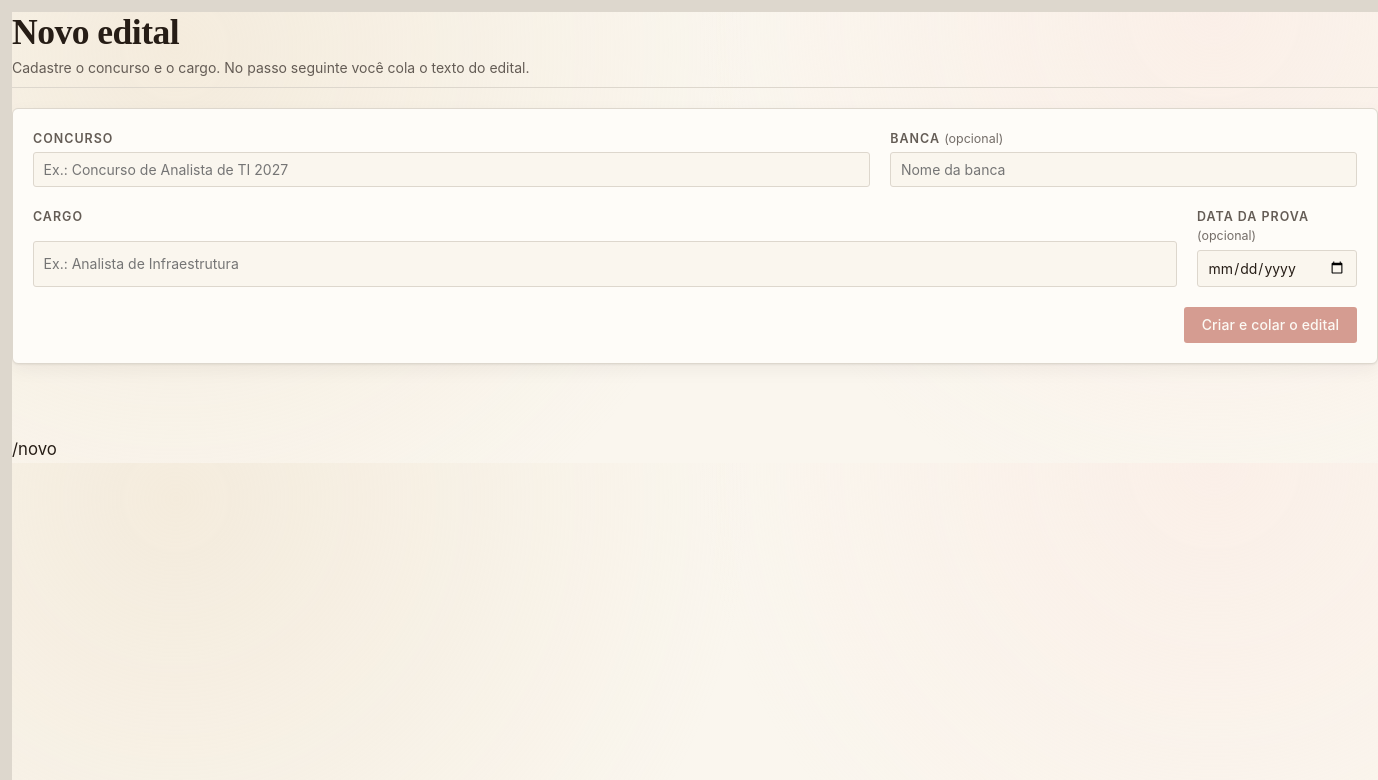
Test: PaginaNovoEdital › so habilita o envio com concurso e cargo preenchidos
The image size is (1378, 780).
Check: the button "Criar e colar o edital" is disabled, box [1184,307,1357,343]
Step 1. Type "Tribunal de Justiça" into the field labelled "Concurso" → (452, 170), box [33,152,870,187]
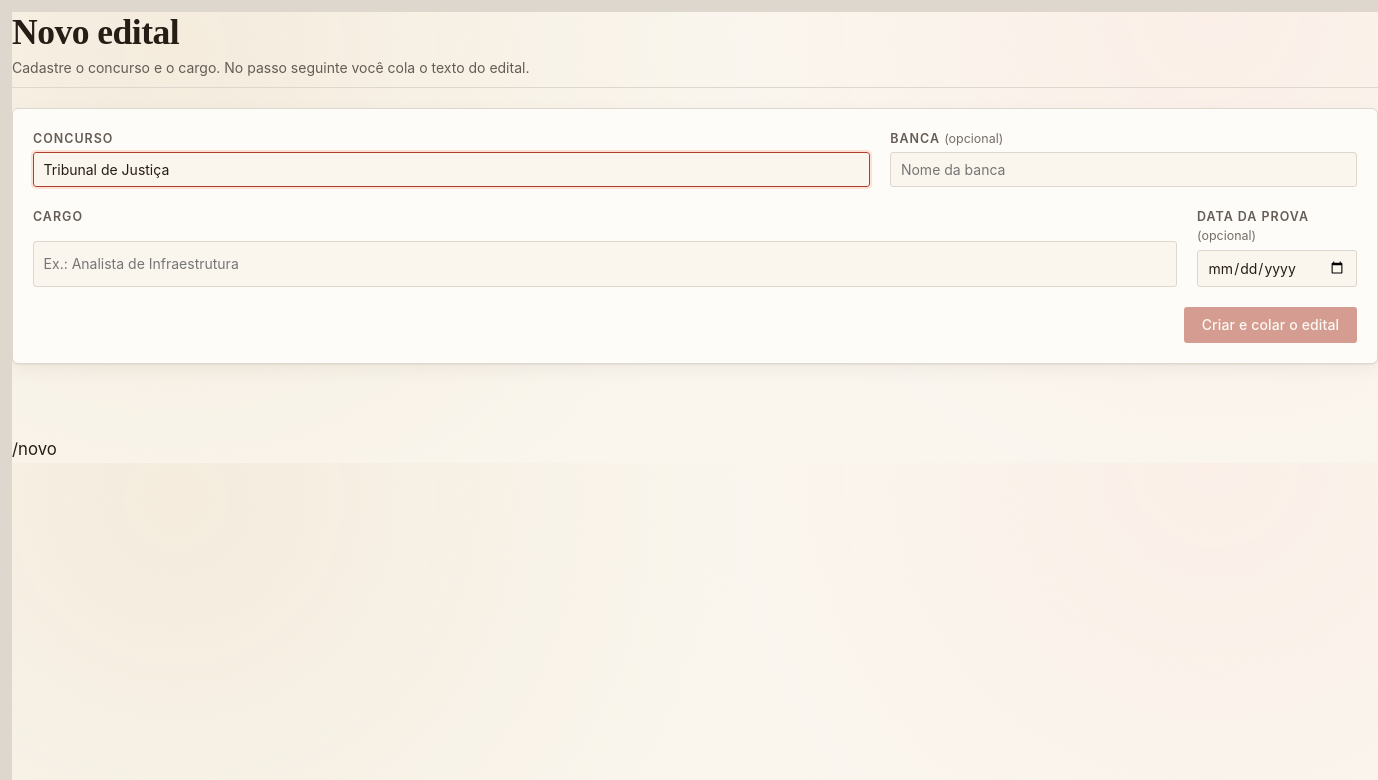
Check: the button "Criar e colar o edital" is disabled, box [1184,307,1357,343]
Step 2. Type "Analista de TI" into the field labelled "Cargo" → (605, 264), box [33,241,1177,287]
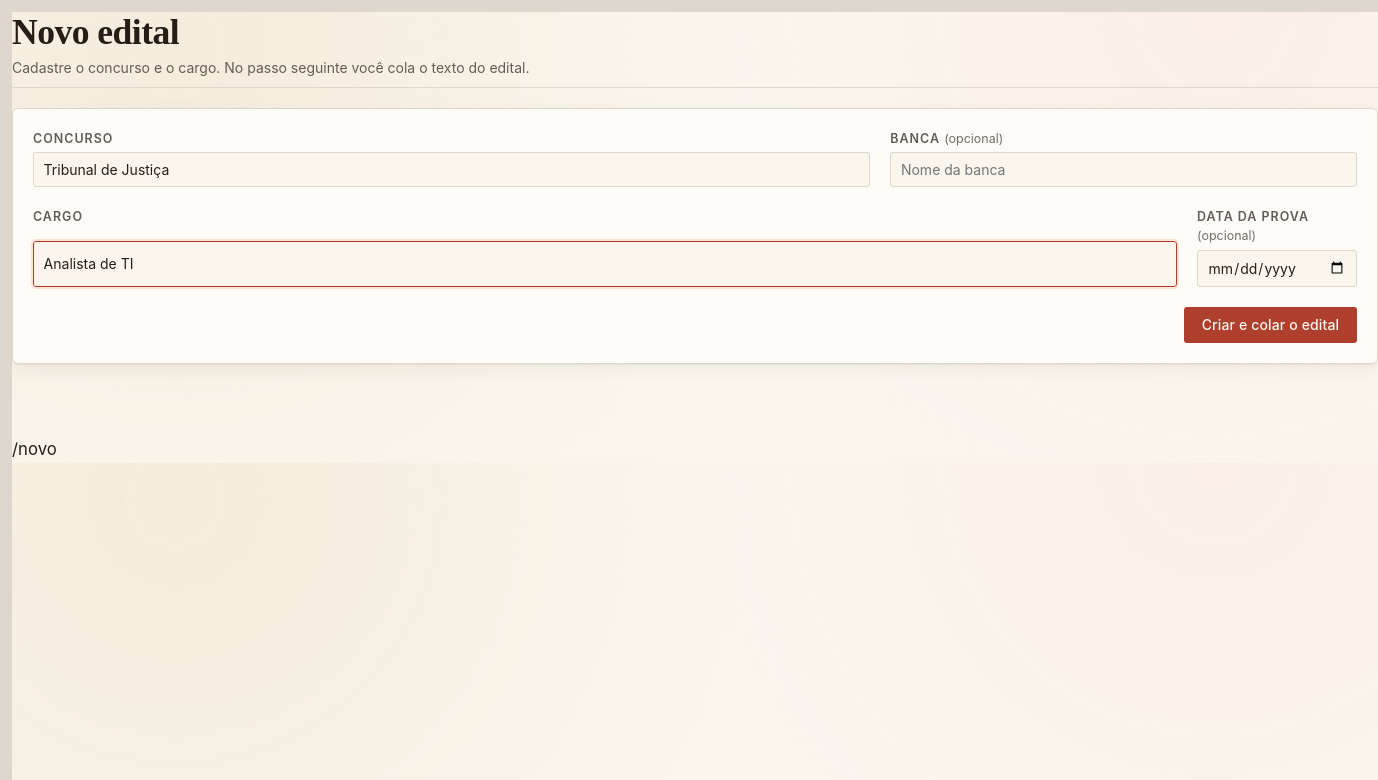
Check: the button "Criar e colar o edital" is enabled, box [1184,307,1357,343]
